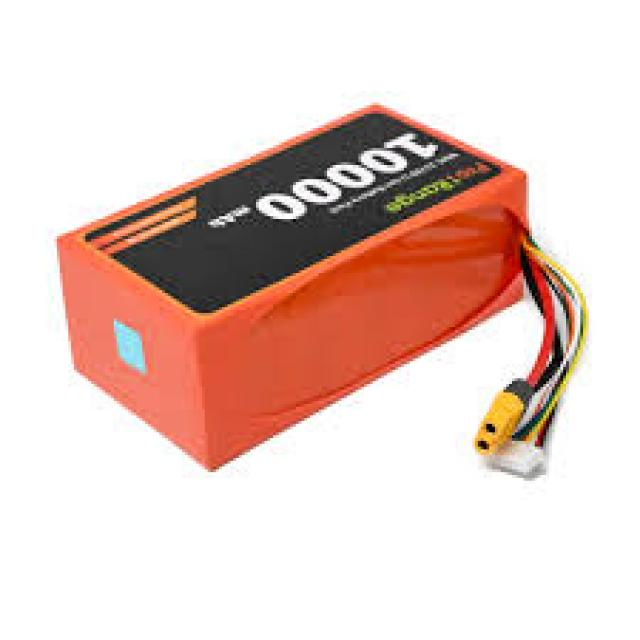Battery: (57, 105, 526, 466)
